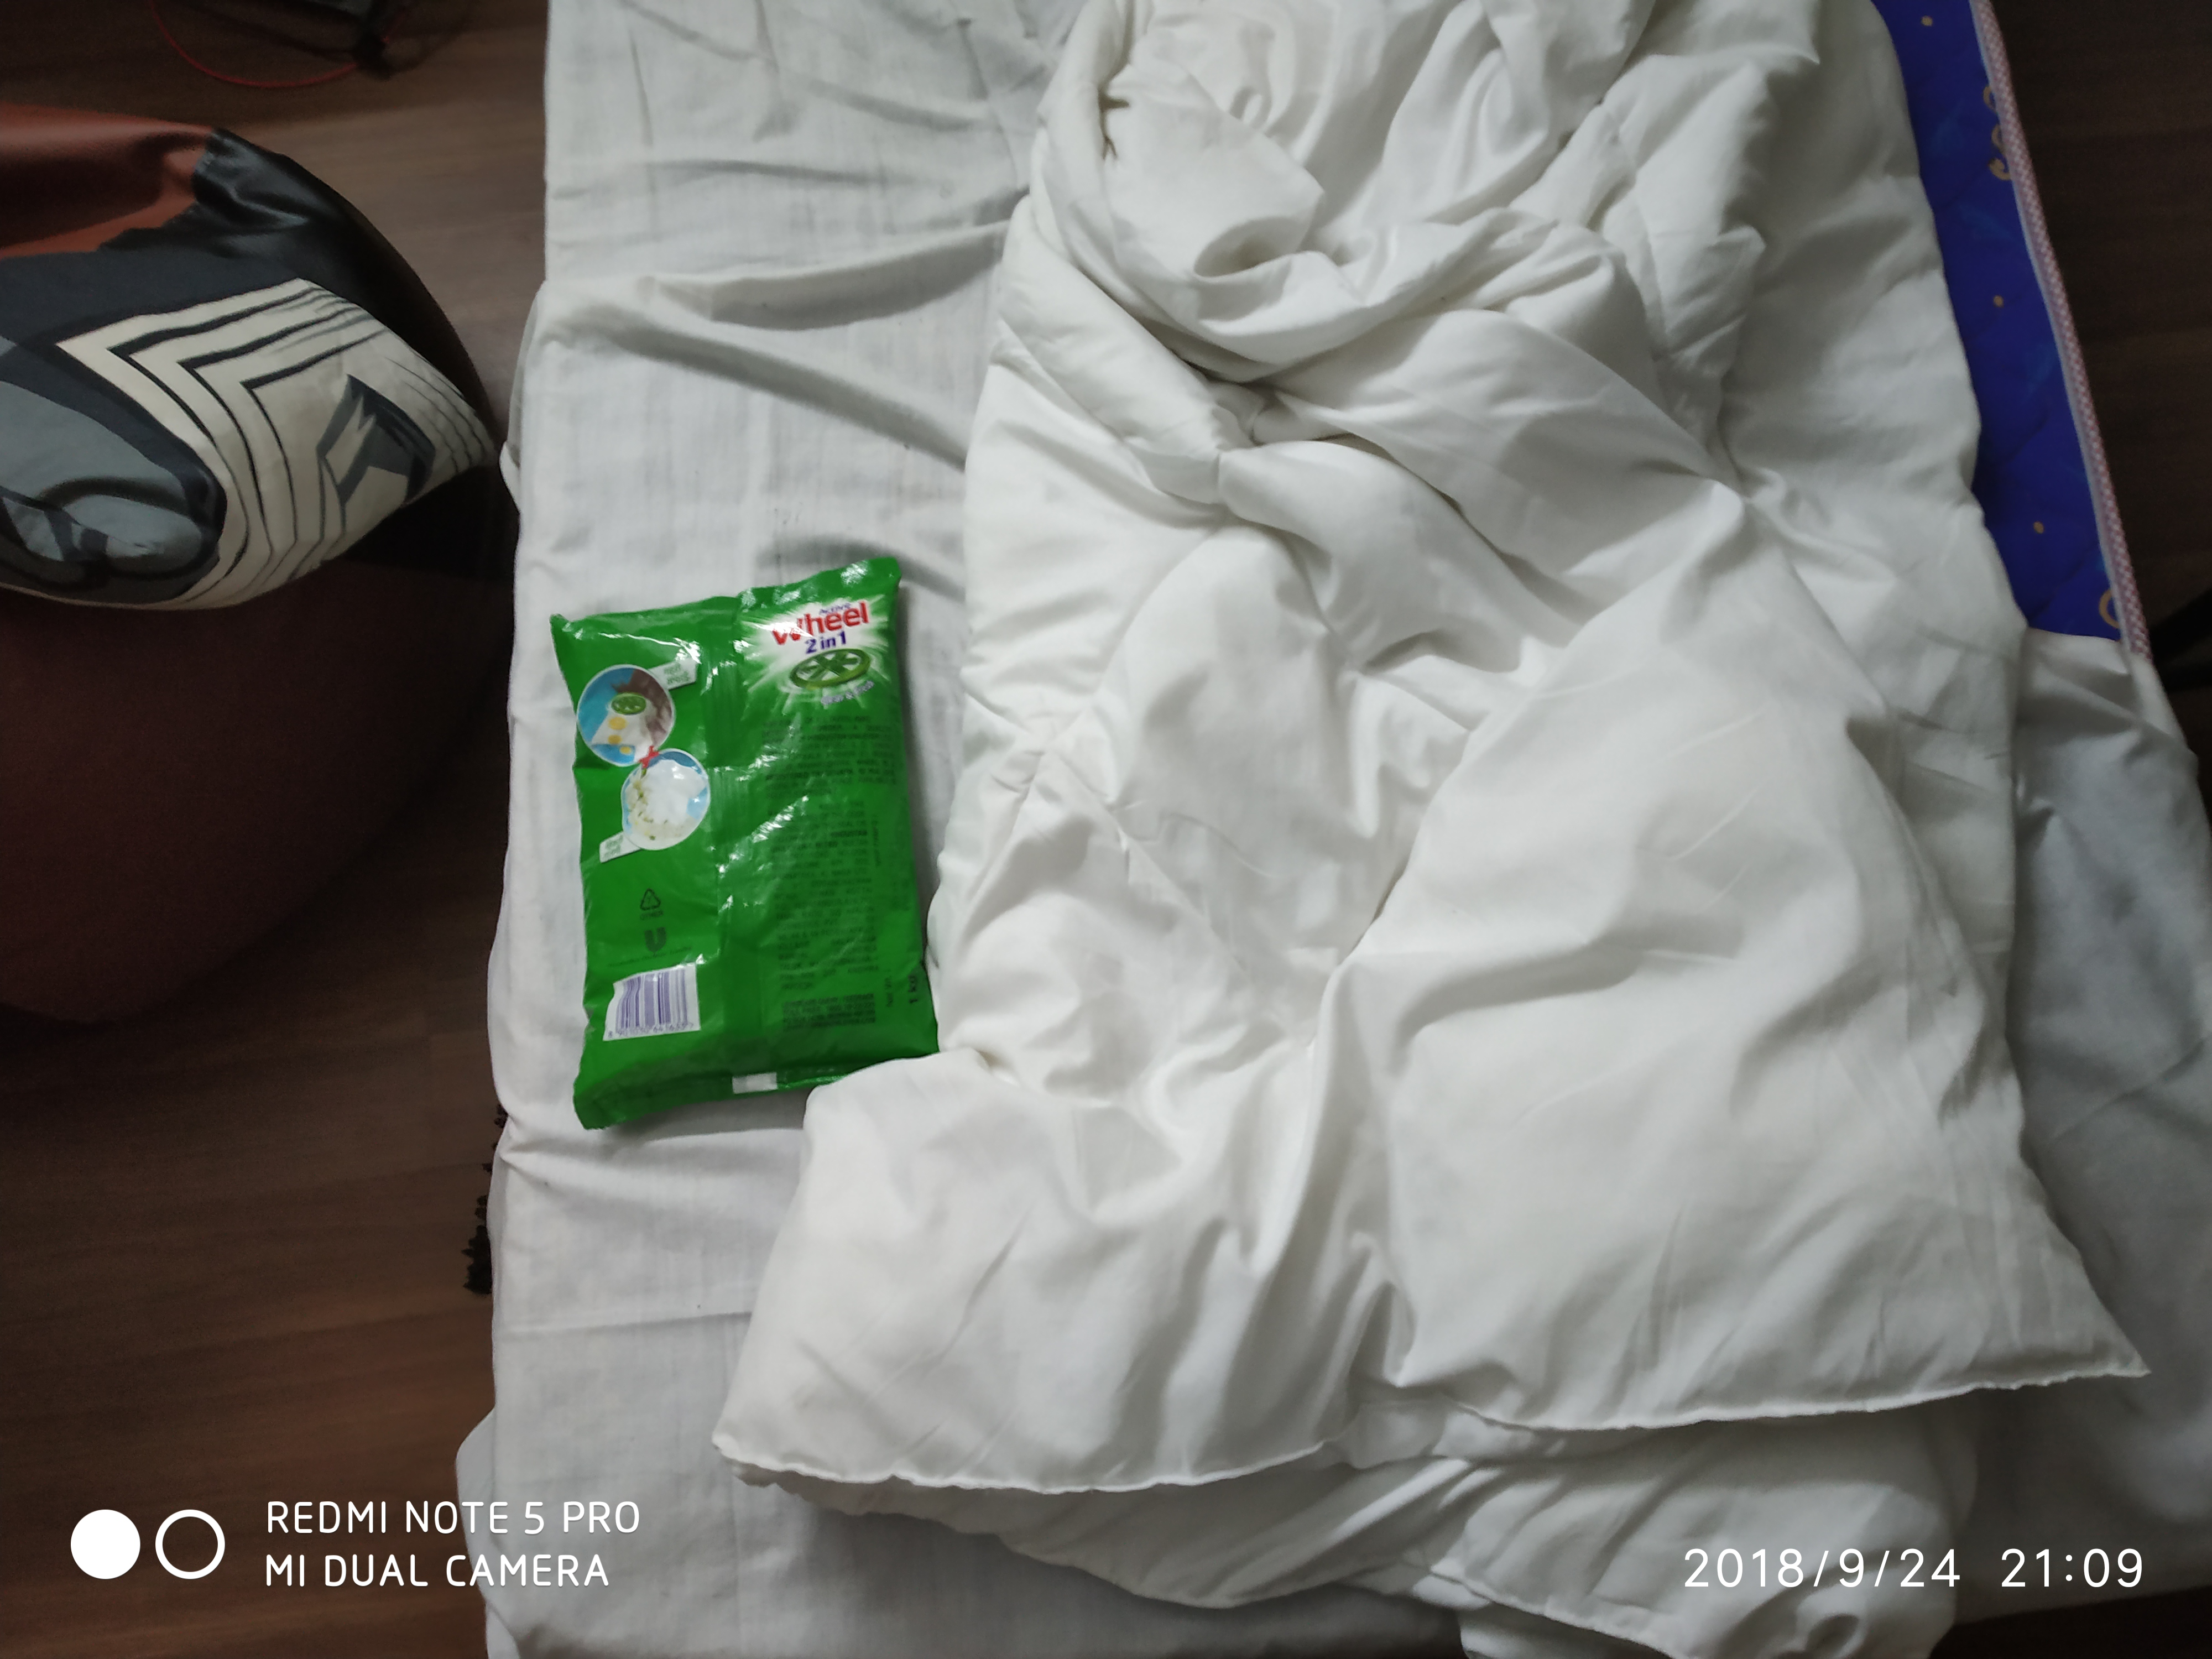detergent: (539, 555, 943, 1116)
